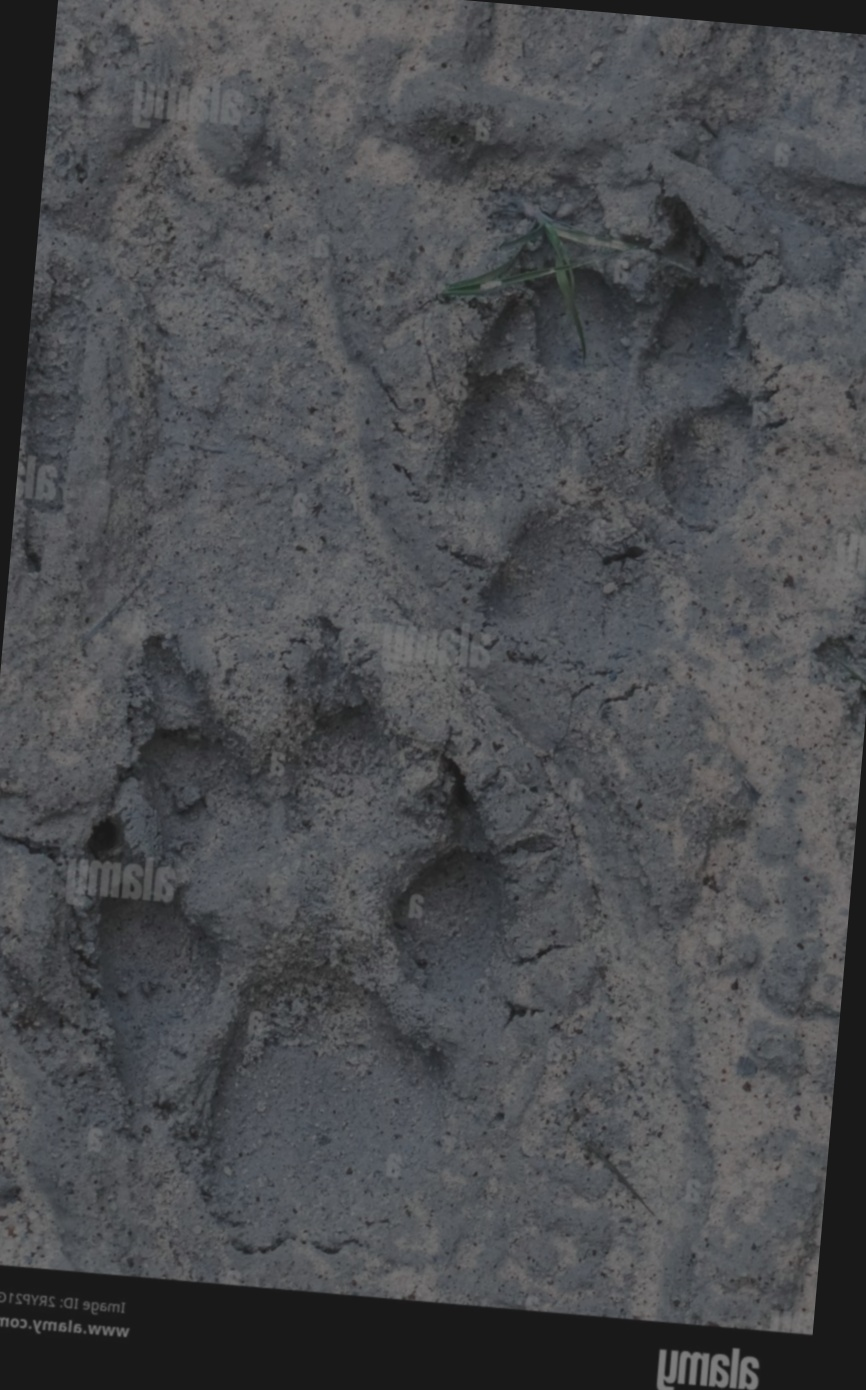loup: (299, 628, 827, 1301), (65, 150, 465, 673)
